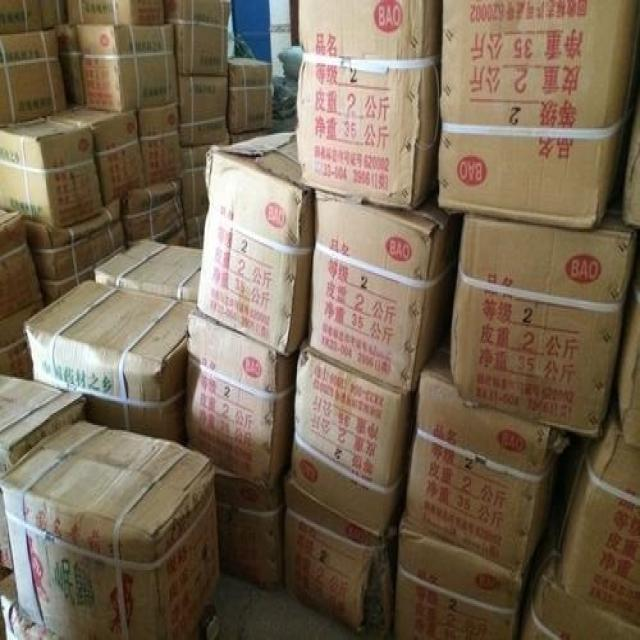box: (0, 420, 223, 640), (452, 212, 635, 440), (397, 357, 580, 572), (302, 189, 465, 394), (23, 280, 197, 445), (197, 128, 314, 357), (283, 345, 417, 536), (180, 305, 300, 490), (549, 411, 640, 625), (280, 476, 393, 633), (390, 515, 525, 640), (0, 374, 83, 568), (0, 113, 102, 229), (19, 200, 127, 309), (517, 546, 640, 640), (211, 464, 291, 591), (50, 106, 146, 208), (77, 26, 177, 111), (0, 207, 46, 381), (0, 29, 72, 130), (93, 239, 204, 304), (180, 142, 229, 249), (116, 179, 188, 251), (0, 572, 67, 640), (132, 102, 182, 186), (616, 275, 640, 449), (175, 75, 229, 147), (229, 55, 273, 135), (613, 99, 640, 229), (51, 24, 87, 109), (68, 0, 166, 27), (40, 2, 70, 31)
